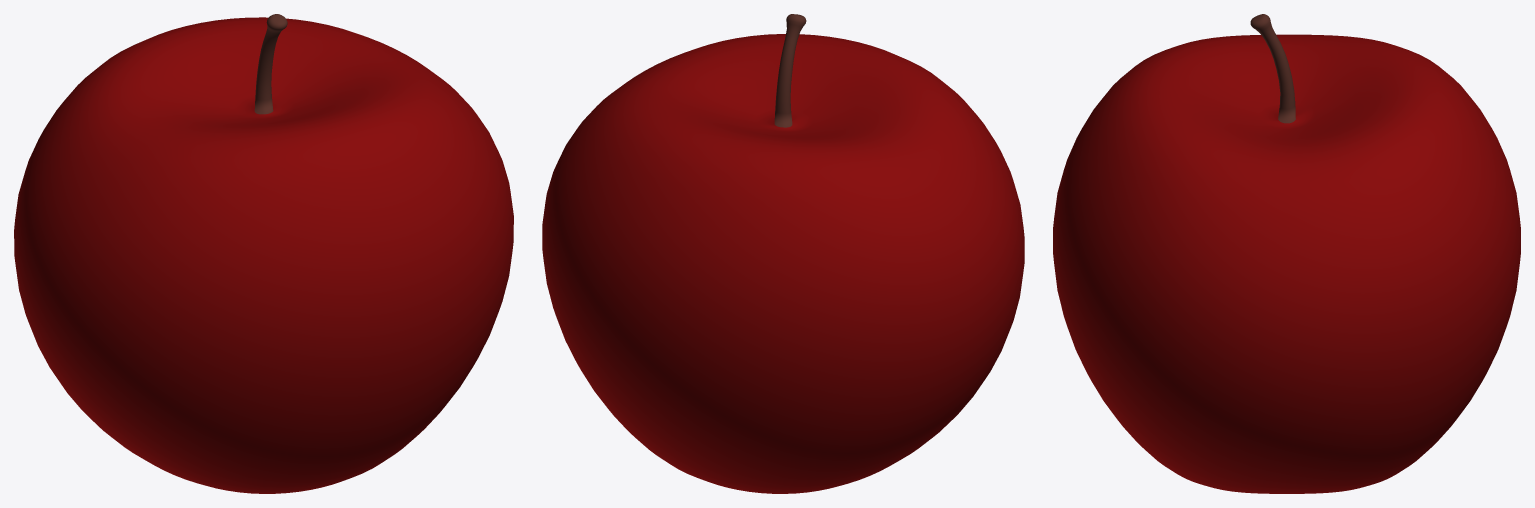
The model's file is Apple.fbx.
3 renders of one model, left to right at view 1: azimuth 30°, elevation 25°; view 2: azimuth 150°, elevation 25°; view 3: azimuth 270°, elevation 25°, orthographic. The views are drawn at different scales.
Parts seen in each view (by area): view 1: Apple; view 2: Apple; view 3: Apple.
Boxes of the visible parts, x1=… form: Apple: x1=14, y1=14, x2=513, y2=493; Apple: x1=542, y1=14, x2=1024, y2=493; Apple: x1=1053, y1=14, x2=1520, y2=493.
Bounding box in the file's own units: 220 × 212 × 204.
